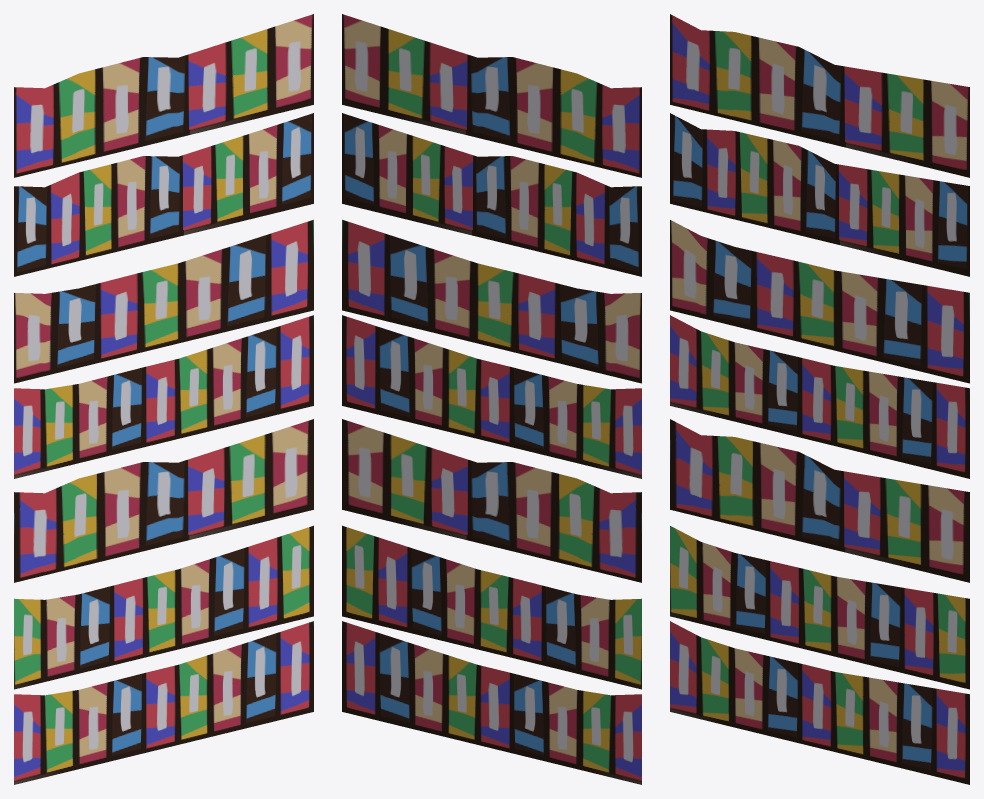
Rendered from M_Books.fbx.
3 views of the same model, side by side, from view 1: azimuth 30°, elevation 25°; view 2: azimuth 150°, elevation 25°; view 3: azimuth 330°, elevation 25° (orthographic).
Parts seen in each view (by area): view 1: Cube.005, Cube.002, Cube.006, Cube.001, Cube.004, Cube, Cube.003; view 2: Cube.005, Cube.002, Cube.006, Cube.001, Cube.004, Cube, Cube.003; view 3: Cube.002, Cube.005, Cube.006, Cube.001, Cube.004, Cube.003, Cube.
Part boxes in pixels (x1,y1,x2,y2): Cube.005: (14,113,313,276); Cube.002: (14,419,313,582); Cube.006: (14,14,313,177); Cube.001: (14,525,313,689); Cube.004: (14,219,313,383); Cube: (14,621,313,784); Cube.003: (14,315,313,478); Cube.005: (342,113,641,276); Cube.002: (342,419,641,582); Cube.006: (342,14,641,177); Cube.001: (342,525,641,689); Cube.004: (342,219,641,383); Cube: (342,621,641,784); Cube.003: (342,315,641,478); Cube.002: (670,419,969,582); Cube.005: (670,113,969,276); Cube.006: (670,14,969,177); Cube.001: (670,526,969,689); Cube.004: (670,220,969,383); Cube.003: (670,315,969,478); Cube: (670,621,969,784).
Bounding box in the file's own units: 1.93 × 4.29 × 3.75e-07.
